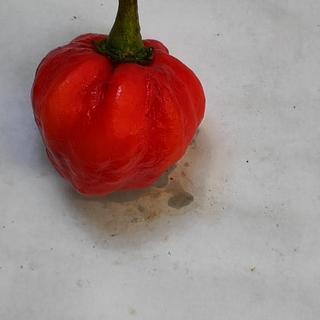Grade-B: (23, 25, 207, 200)
